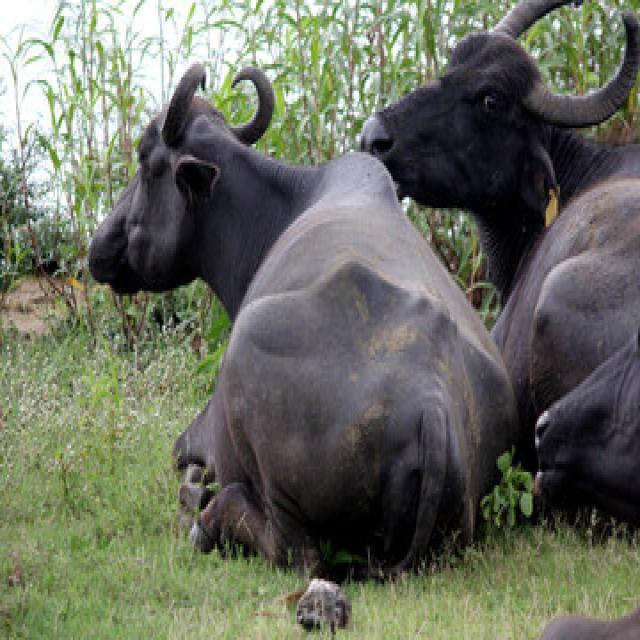Buffalo: (83, 52, 514, 553)
